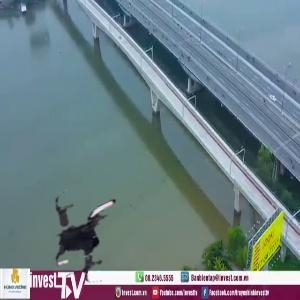drone: (38, 181, 145, 288)
